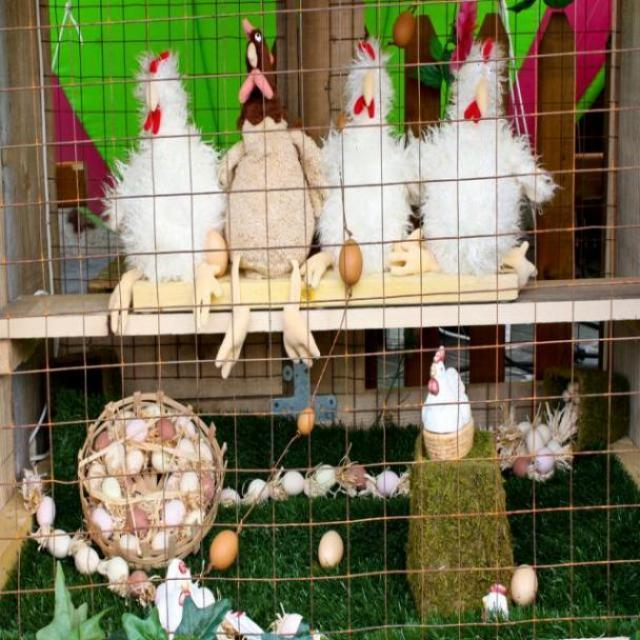Chicken: (215, 13, 337, 384), (403, 29, 564, 295), (92, 42, 227, 335), (309, 24, 422, 295), (149, 550, 230, 640), (417, 338, 477, 440)
